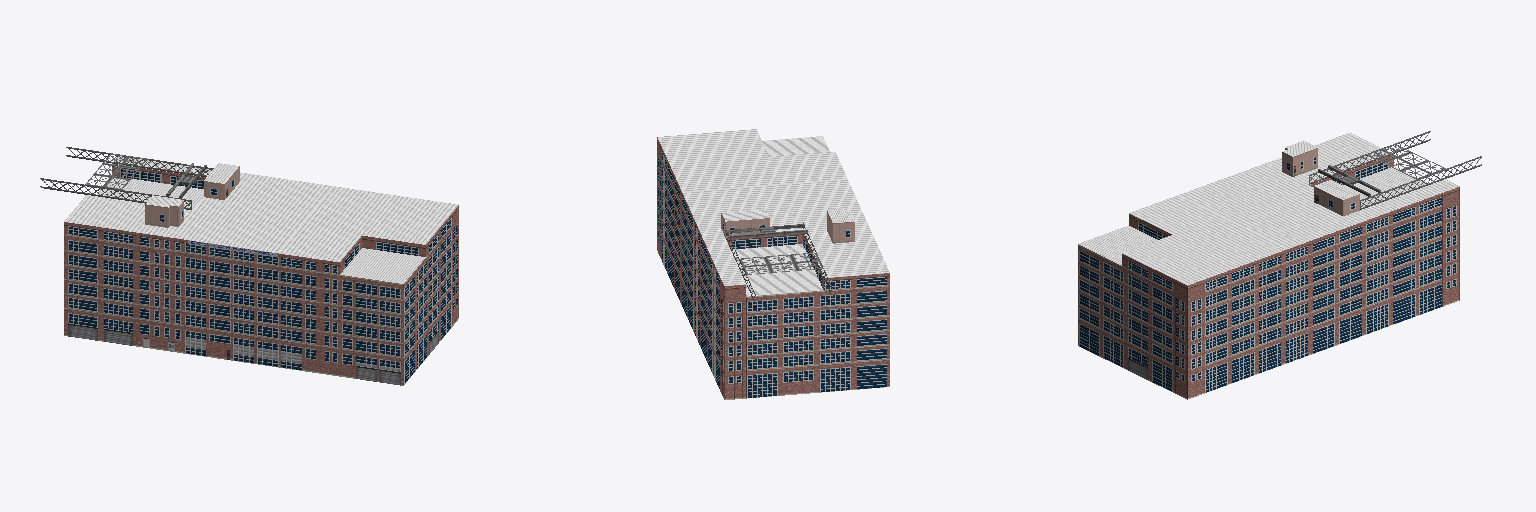
3 views of the same model, side by side, from view 1: azimuth 30°, elevation 25°; view 2: azimuth 150°, elevation 25°; view 3: azimuth 270°, elevation 25° (orthographic).
Size of the model in its own units: 323 by 132 by 360.
Materials: 1 (1 with a texture image).